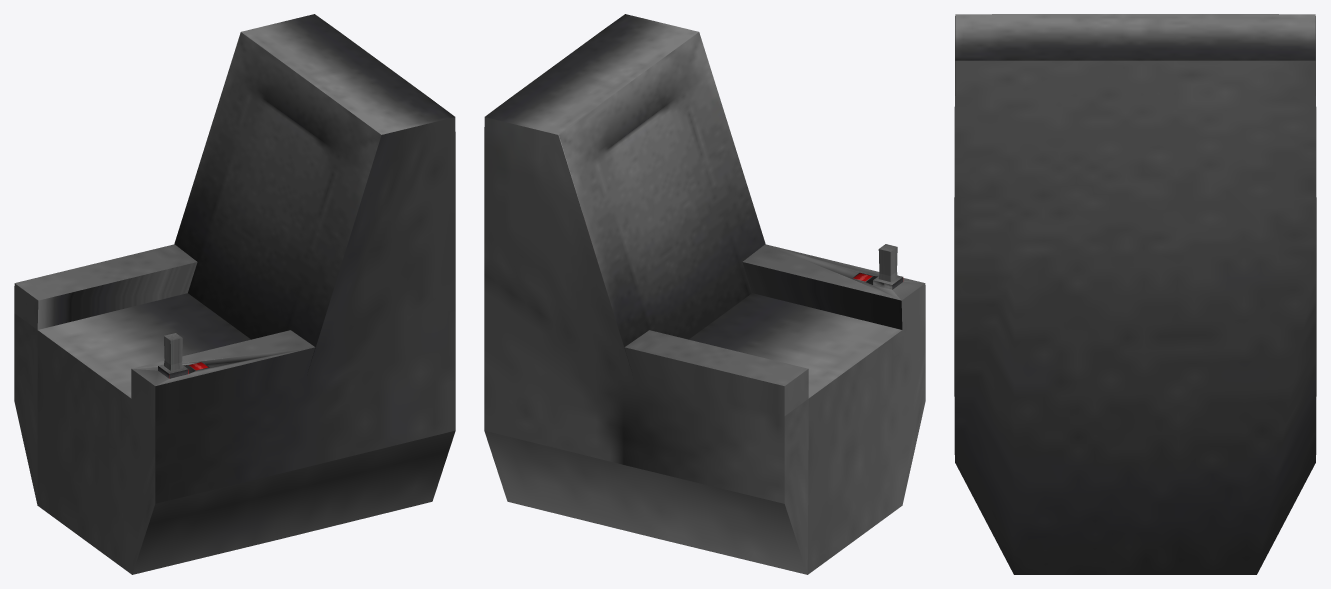
Rendered from CaptainChair.fbx.
3 renders of one model, left to right at view 1: azimuth 30°, elevation 25°; view 2: azimuth 150°, elevation 25°; view 3: azimuth 270°, elevation 25°, orthographic. The views are drawn at different scales.
Parts seen in each view (by area): view 1: Captains_Chair; view 2: Captains_Chair; view 3: Captains_Chair.
Boxes of the visible parts, x1=… form: Captains_Chair: x1=14, y1=14, x2=455, y2=574; Captains_Chair: x1=484, y1=14, x2=925, y2=574; Captains_Chair: x1=954, y1=14, x2=1316, y2=574.
Size of the model in its own units: 2.02 by 2.58 by 1.64.
